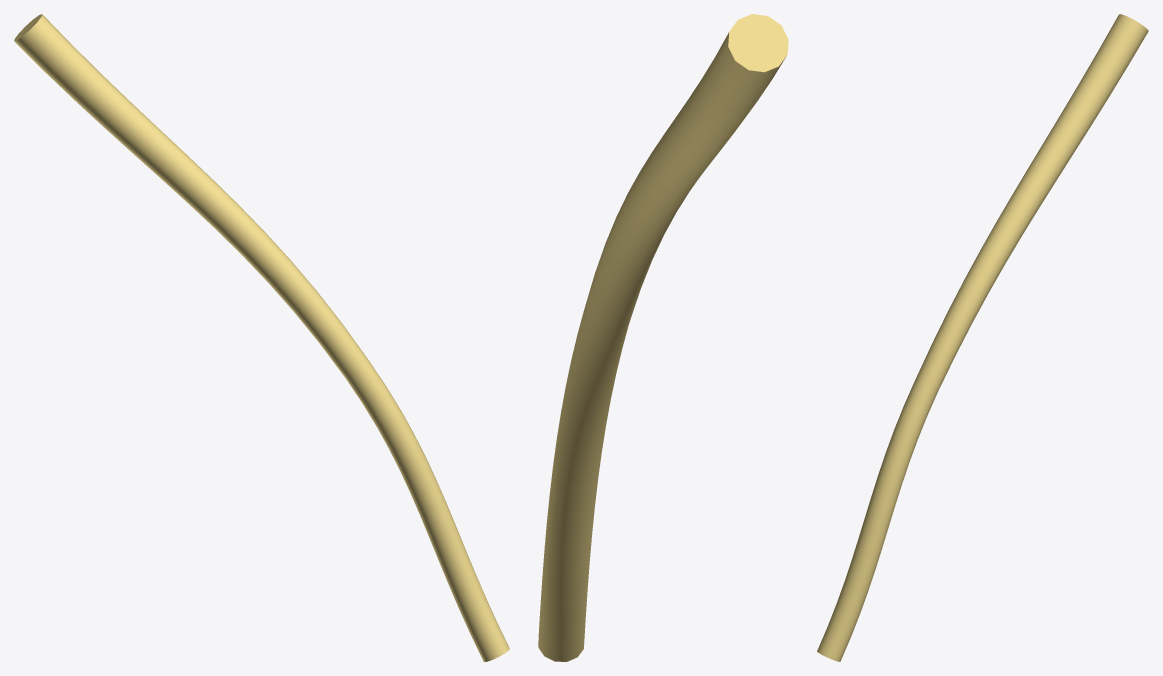
3 renders of one model, left to right at view 1: azimuth 30°, elevation 25°; view 2: azimuth 150°, elevation 25°; view 3: azimuth 270°, elevation 25°, orthographic. The views are drawn at different scales.
Parts seen in each view (by area): view 1: ZA_cf009566b667c8e1; view 2: ZA_cf009566b667c8e1; view 3: ZA_cf009566b667c8e1.
Part boxes in pixels (<box>): ZA_cf009566b667c8e1: <box>14,14,509,661</box>; ZA_cf009566b667c8e1: <box>538,14,788,661</box>; ZA_cf009566b667c8e1: <box>817,14,1148,661</box>.
Bounding box in the file's own units: 0.00759 × 0.0133 × 0.00766.
